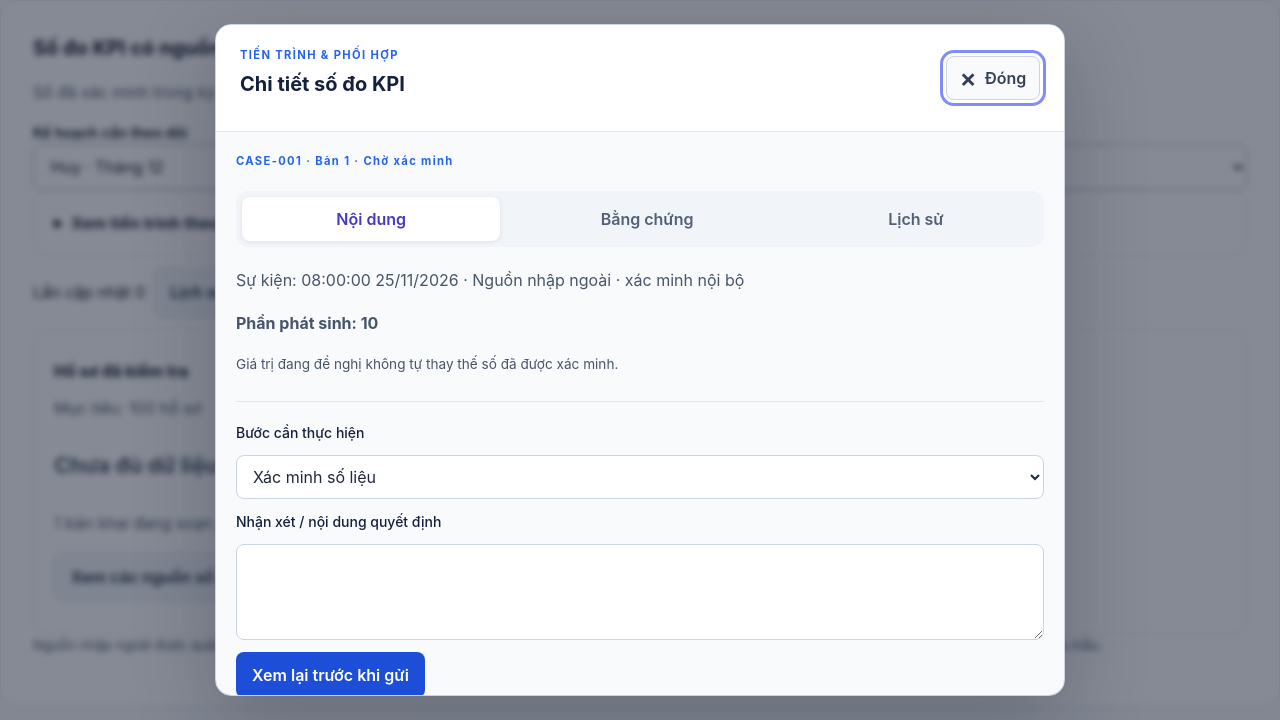
keeps a decision draft across detail tabs and warns before closing
This screenshot has width=1280, height=720.
In the text box labelled "Nhận xét / nội dung quyết định": (640, 592) [236,544,1044,640], type "Cần đối chiếu lần nữa"
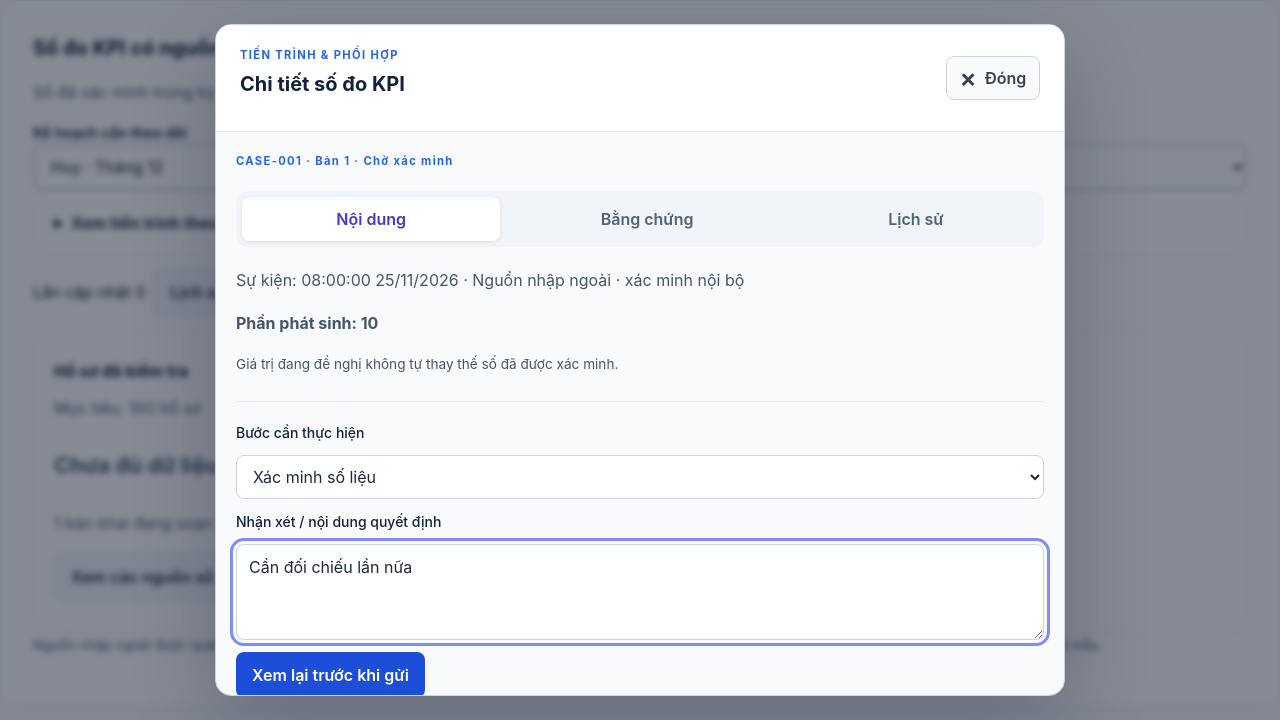
Click the tab "Bằng chứng": (647, 219) [506,197,788,241]
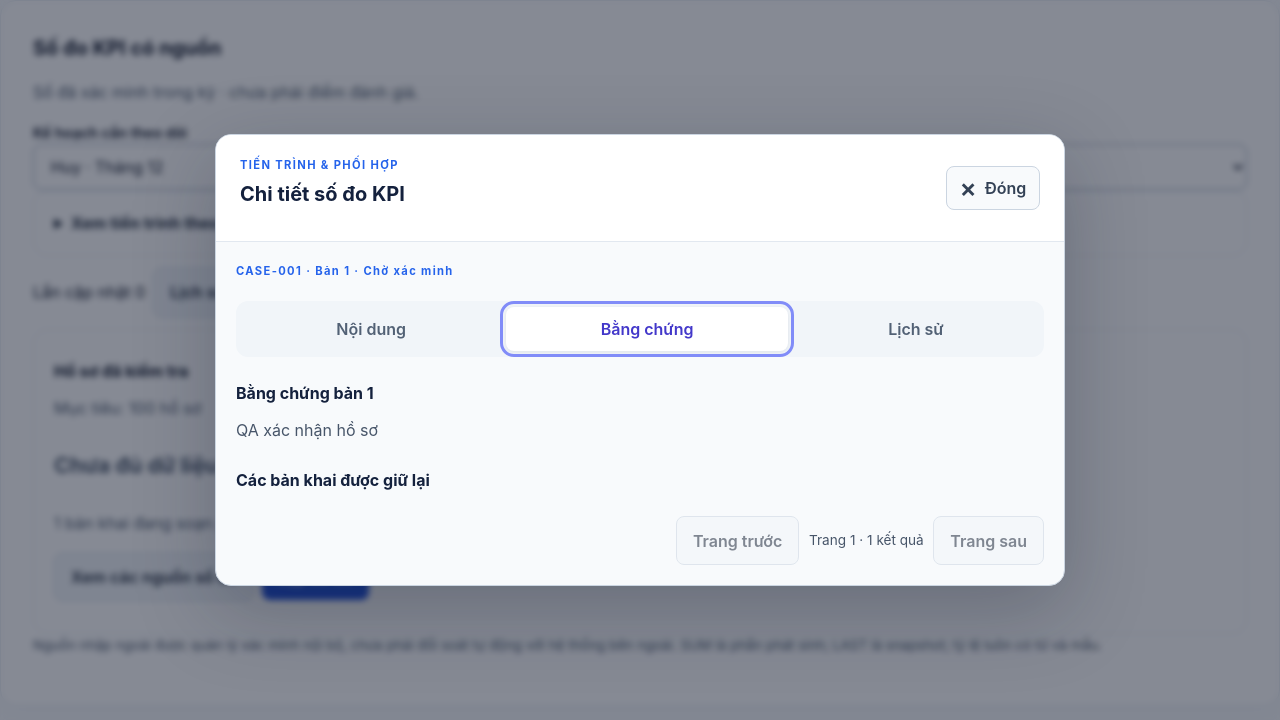
Click the tab "Nội dung": (371, 329) [242,307,500,351]
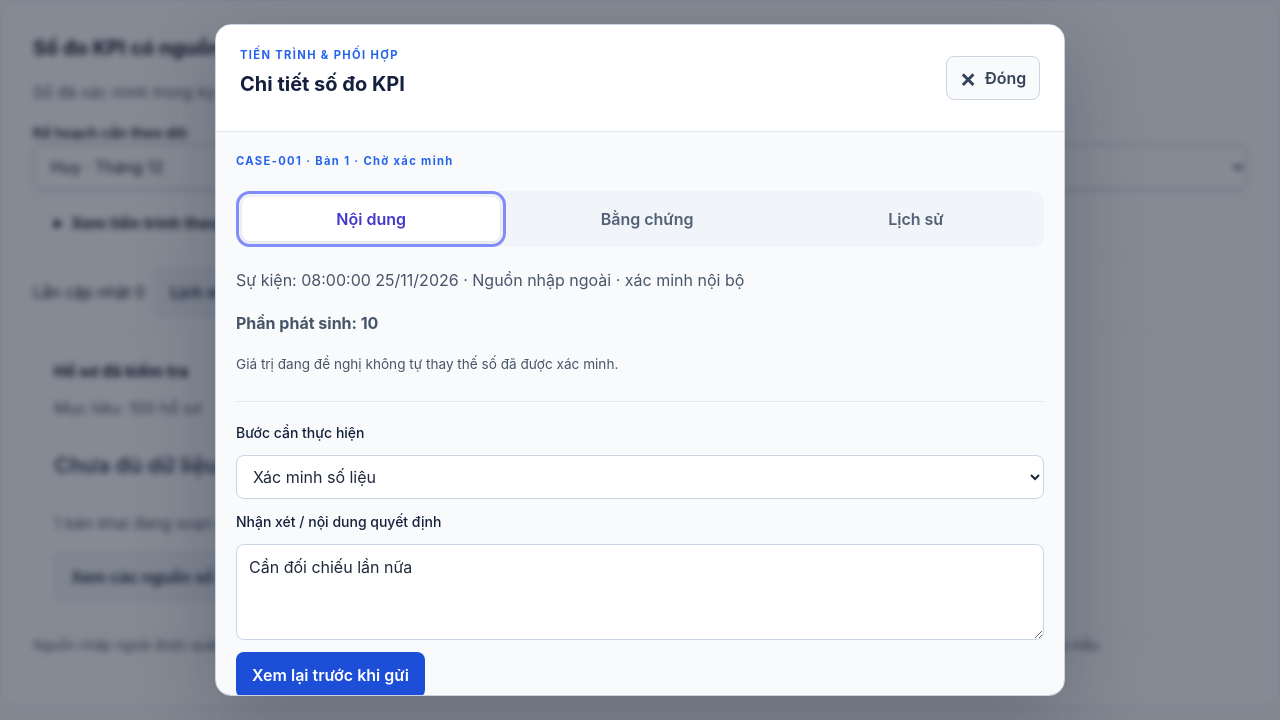
Click the button with aria-label "Đóng Chi tiết số đo KPI": (993, 78) [946,56,1040,100]
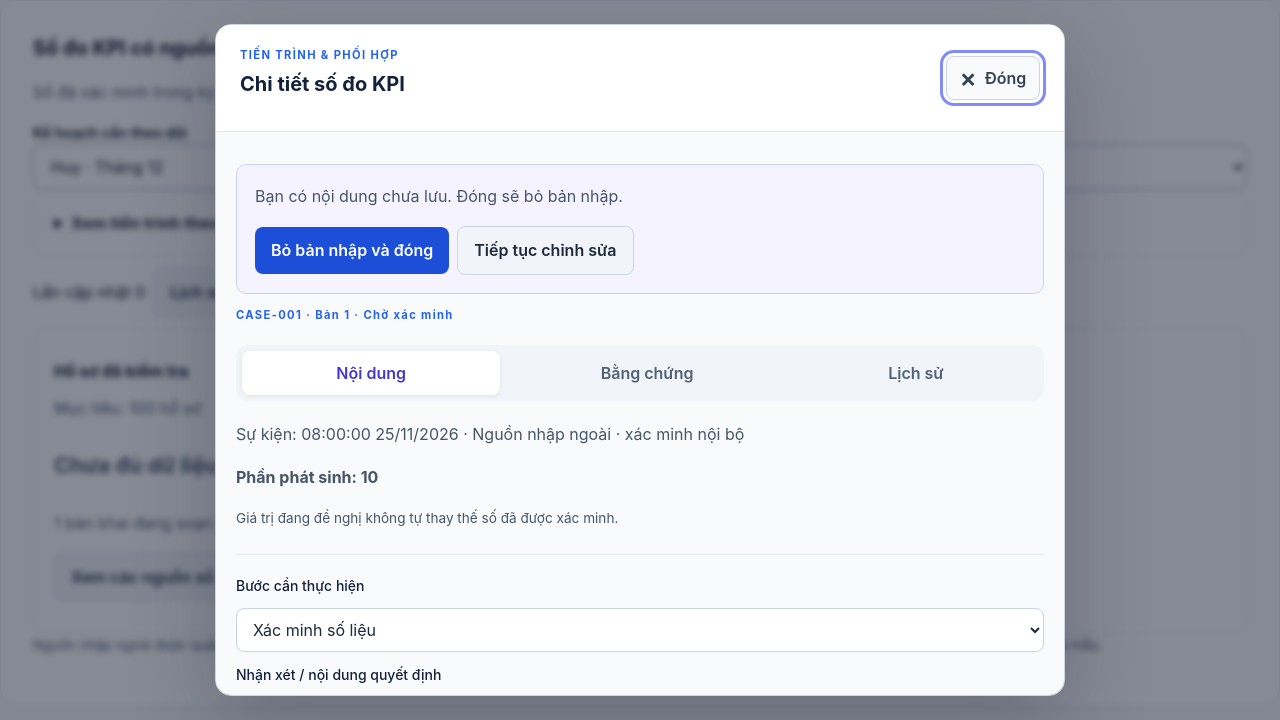
Result: the text "Bạn có nội dung chưa lưu. Đóng sẽ bỏ bản nhập." is shown at [255,186,623,206]
